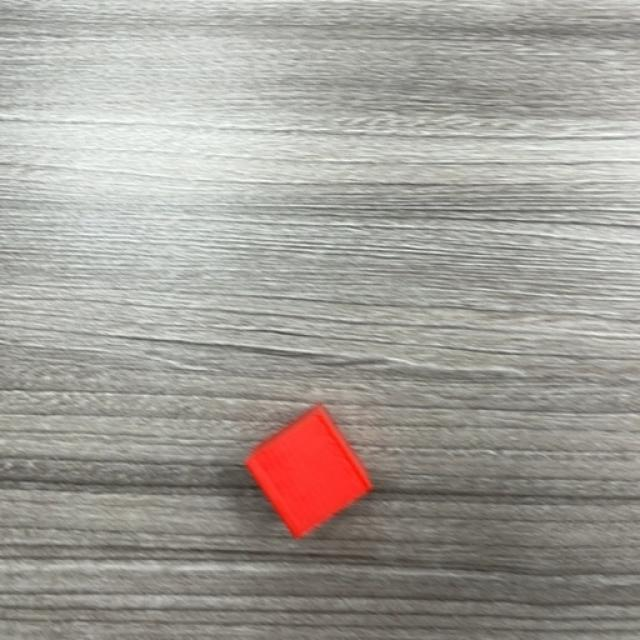Rojo: (244, 405, 374, 540)
